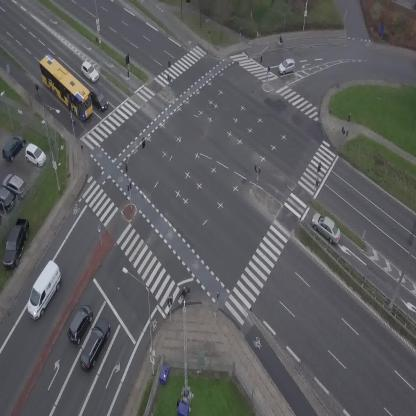bicycle: (177, 285, 192, 300), (34, 83, 41, 97), (276, 36, 284, 46)
bus: (31, 51, 102, 122)
car: (75, 315, 115, 374), (62, 302, 97, 346), (306, 209, 346, 246), (86, 86, 111, 114), (77, 60, 101, 84), (276, 57, 298, 76)
lorry: (18, 259, 70, 323)
